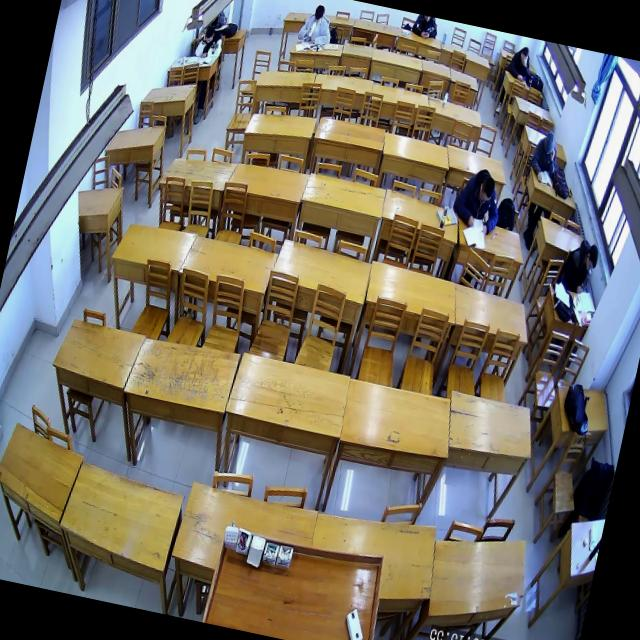down: (474, 173, 496, 207), (582, 242, 601, 275), (540, 129, 558, 157), (311, 3, 326, 26), (202, 24, 215, 46)
lookup: (518, 45, 530, 66)
sit: (447, 162, 508, 238), (554, 233, 603, 297), (526, 126, 564, 186), (294, 0, 337, 49), (504, 42, 536, 85), (193, 22, 226, 62)
